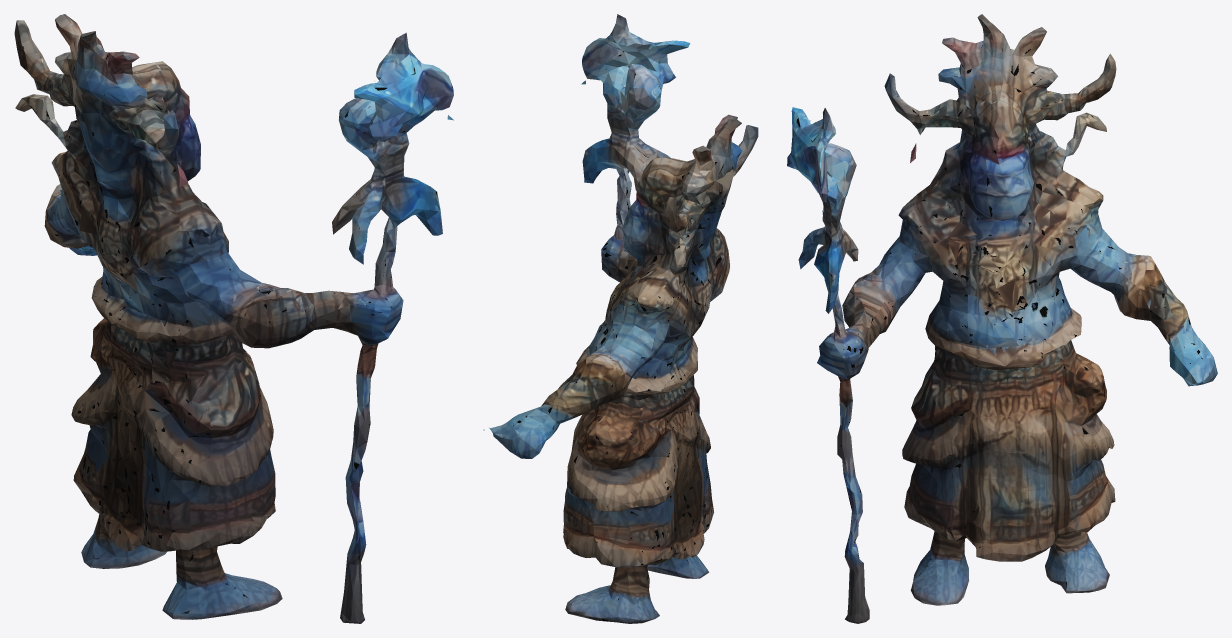
The model's file is minion_support_3.glb.
3 views of the same model, side by side, from view 1: azimuth 30°, elevation 25°; view 2: azimuth 150°, elevation 25°; view 3: azimuth 270°, elevation 25° (orthographic). The views are drawn at different scales.
Visible parts, largest first — view 1: zzzz2; view 2: zzzz2; view 3: zzzz2.
Part boxes in pixels (<box>): zzzz2: <box>14,14,453,623</box>; zzzz2: <box>483,14,758,623</box>; zzzz2: <box>787,14,1217,623</box>.
Bounding box in the file's own units: 1.15 × 2.31 × 1.7.
Materials: 1 (1 with a texture image).
